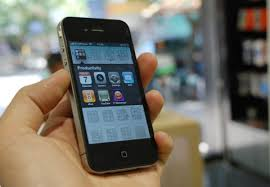iphone: (57, 15, 159, 177)
iphone4: (57, 15, 159, 177)
